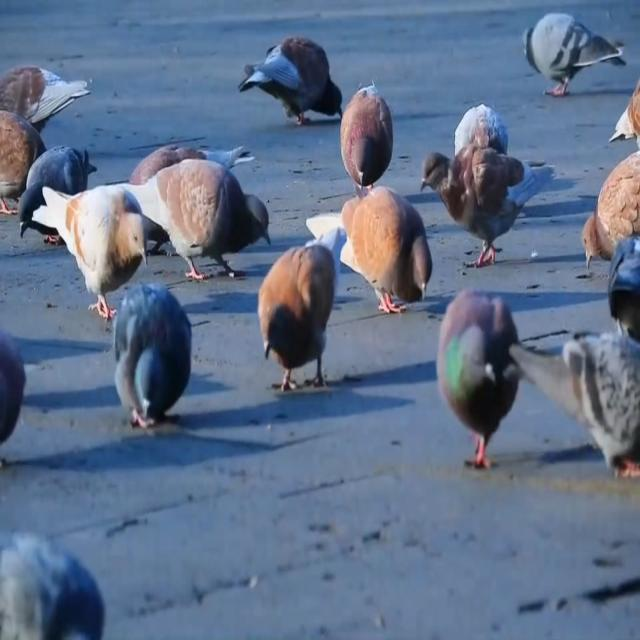bird: (511, 316, 640, 468), (136, 149, 276, 279), (438, 268, 524, 474), (422, 144, 568, 265), (32, 180, 160, 316), (245, 227, 350, 391), (108, 262, 196, 450), (334, 165, 428, 320), (0, 517, 105, 640), (514, 0, 632, 105), (243, 28, 347, 132), (575, 138, 640, 268), (132, 131, 251, 202), (15, 132, 95, 233), (331, 55, 395, 181), (0, 53, 95, 128), (444, 101, 512, 192), (0, 89, 43, 231), (600, 230, 640, 344), (0, 342, 32, 457), (610, 61, 640, 168)
